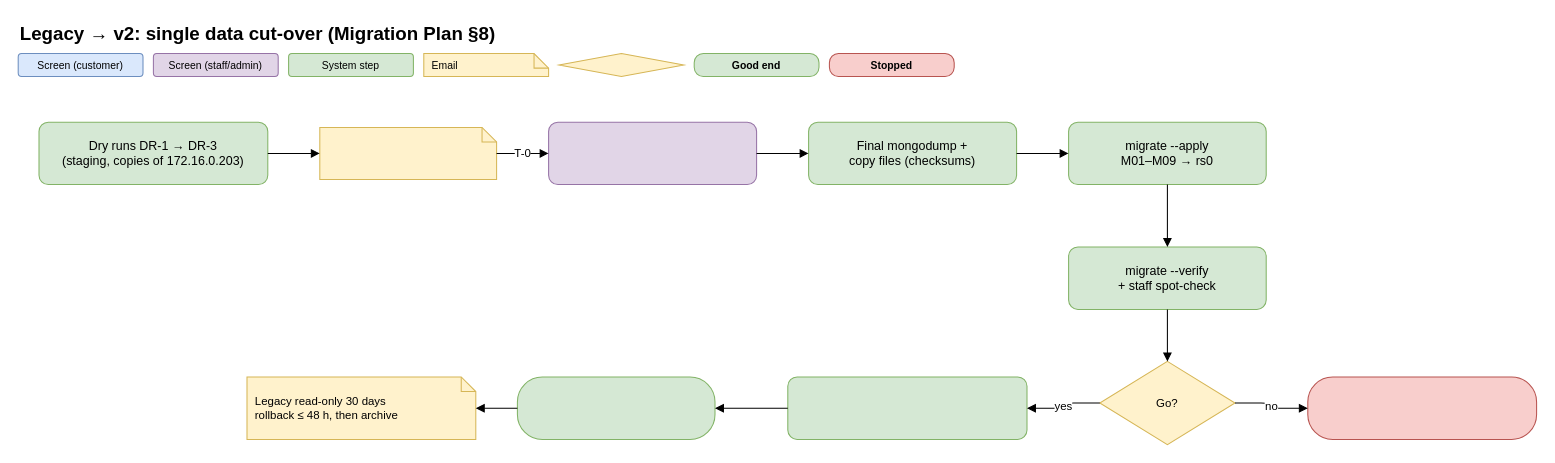
Some shapes in this 1555 by 463 pixel diagram are drawn without their labels. Here are the shapes that lost their labels. From the top down, the centre of each, then its label:
(x=621, y=64): Decision
(x=408, y=152): Email all accounts (T-5 d)
(x=652, y=153): Maintenance mode stop Flask (no writes)
(x=615, y=407): Smoke tests → lift maintenance
(x=907, y=407): Switch nginx: all /api/* + new SHOP/SIA + mobile v2
(x=1422, y=407): No-go: discard target, restart Flask (no data lost)
